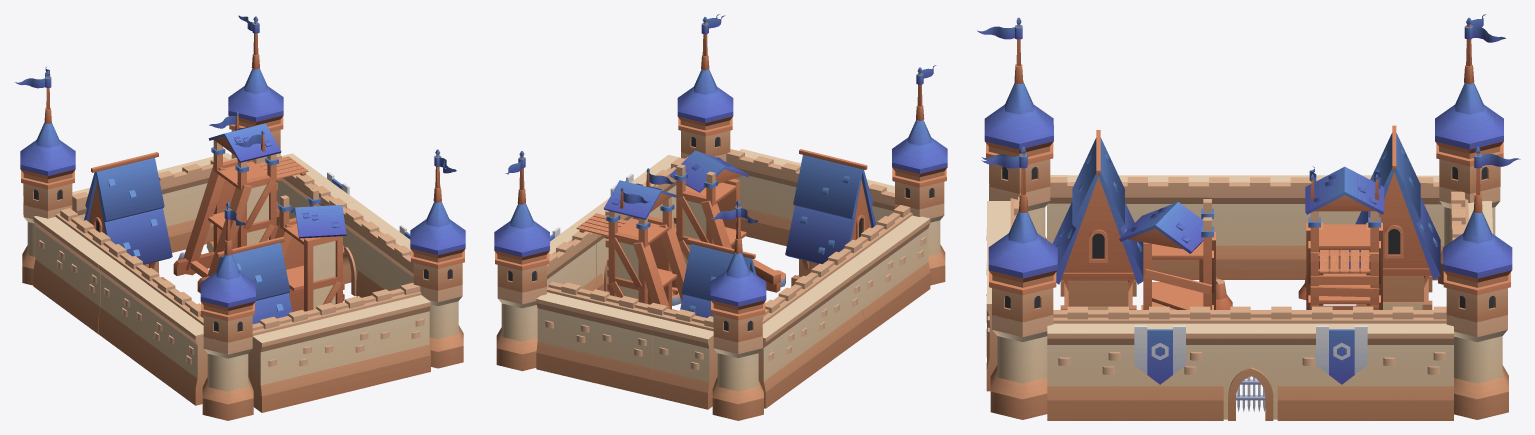
The model's file is Castillo.glb.
The picture shows the model from 3 angles, left to right: view 1: azimuth 30°, elevation 25°; view 2: azimuth 150°, elevation 25°; view 3: azimuth 270°, elevation 25°; orthographic projection. The views are drawn at different scales.
Visible parts, largest first — view 1: siege-tower, tower-slant-roof.001, siege-tower-demolished, wall-narrow.009, wall-narrow.010, wall-narrow.011, tower-hexagon-base.003, wall-narrow.006, wall-narrow.005, wall-narrow.008, wall-narrow.007, wall-narrow.004 (+20 smaller); view 2: siege-tower, tower-slant-roof.002, siege-tower-demolished, wall-narrow.012, wall-narrow.013, wall-narrow.014, wall-narrow.011, tower-hexagon-base.002, wall-narrow.005, wall-narrow.007, wall-narrow.008, wall-narrow.006 (+20 smaller); view 3: tower-slant-roof.002, siege-tower, wall-narrow.003, wall-narrow.001, wall-doorway, wall-narrow.008, tower-slant-roof.001, wall-narrow, siege-tower-demolished, wall-narrow.002, tower-hexagon-base.001, tower-hexagon-base (+24 smaller).
Boxes of the visible parts, left/top/right/bottom form: siege-tower: left=173, top=111, right=308, bottom=293; tower-slant-roof.001: left=84, top=152, right=172, bottom=280; siege-tower-demolished: left=274, top=188, right=346, bottom=311; wall-narrow.009: left=248, top=310, right=318, bottom=412; wall-narrow.010: left=305, top=296, right=374, bottom=398; wall-narrow.011: left=362, top=282, right=430, bottom=385; tower-hexagon-base.003: left=202, top=337, right=253, bottom=420; wall-narrow.006: left=163, top=300, right=207, bottom=405; wall-narrow.005: left=66, top=228, right=126, bottom=334; wall-narrow.008: left=98, top=252, right=159, bottom=357; wall-narrow.007: left=131, top=276, right=191, bottom=381; wall-narrow.004: left=33, top=208, right=94, bottom=309; siege-tower: left=576, top=168, right=686, bottom=311; tower-slant-roof.002: left=785, top=149, right=876, bottom=286; siege-tower-demolished: left=670, top=150, right=785, bottom=305; wall-narrow.012: left=651, top=308, right=717, bottom=409; wall-narrow.013: left=594, top=295, right=667, bottom=396; wall-narrow.014: left=536, top=281, right=609, bottom=382; wall-narrow.011: left=726, top=149, right=797, bottom=244; tower-hexagon-base.002: left=712, top=327, right=763, bottom=420; wall-narrow.005: left=773, top=275, right=831, bottom=384; wall-narrow.007: left=839, top=227, right=897, bottom=336; wall-narrow.008: left=806, top=251, right=864, bottom=360; wall-narrow.006: left=872, top=205, right=930, bottom=312; tower-slant-roof.002: left=1052, top=130, right=1143, bottom=309; siege-tower: left=1305, top=166, right=1384, bottom=309; wall-narrow.003: left=1047, top=306, right=1128, bottom=420; wall-narrow.001: left=1372, top=306, right=1453, bottom=420; wall-doorway: left=1210, top=306, right=1291, bottom=420; wall-narrow.008: left=1209, top=175, right=1290, bottom=279; tower-slant-roof.001: left=1349, top=125, right=1440, bottom=309; wall-narrow: left=1291, top=306, right=1373, bottom=420; siege-tower-demolished: left=1119, top=199, right=1250, bottom=378; wall-narrow.002: left=1128, top=306, right=1210, bottom=420; tower-hexagon-base.001: left=990, top=315, right=1053, bottom=419; tower-hexagon-base: left=1446, top=315, right=1508, bottom=419.
Bounding box in the file's own units: 4.73 × 3.49 × 6.66.
Materials: 50 (50 with a texture image).
